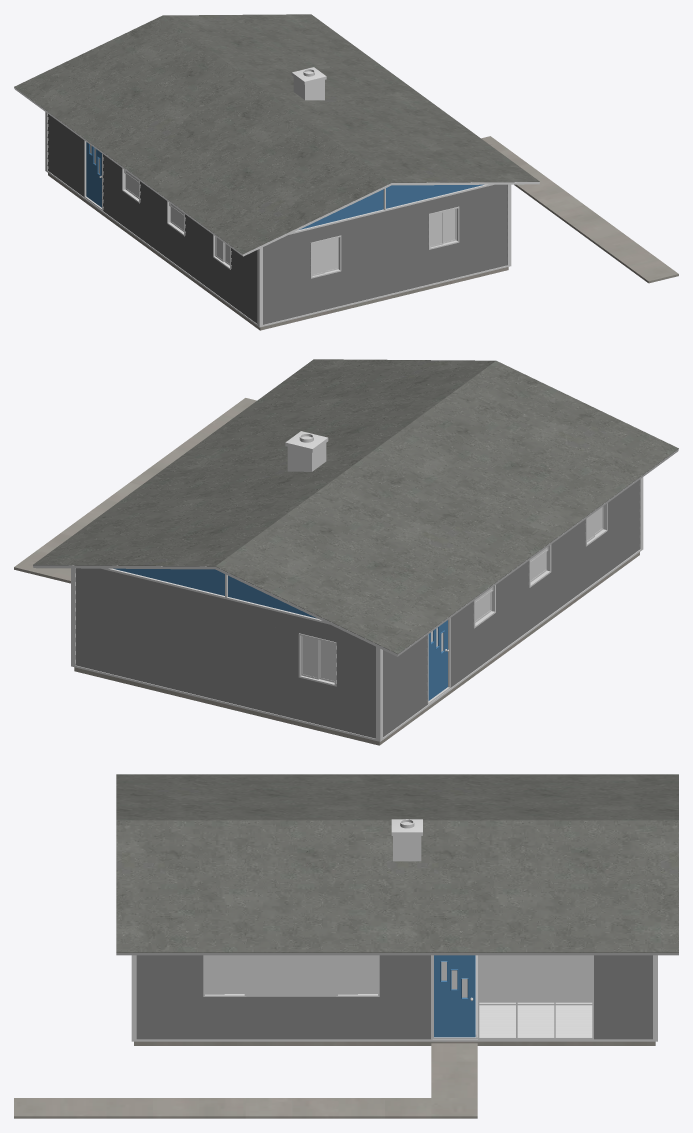
File: casa1c.glb
3 renders of one model, top to bottom at view 1: azimuth 30°, elevation 25°; view 2: azimuth 150°, elevation 25°; view 3: azimuth 270°, elevation 25°, orthographic. The views are drawn at different scales.
Visible parts, largest first — view 1: fw-50-roof_Asphalt020_0, fw-50-siding_C_plywood_grey_0, fw-50-foundation_ConcreteSubstance004_0, fw-50-walls_Wood058_0, fw-50-walls_Accent_Blue_0, fw-50-windowDouble.003_Glass_0, fw-50-door-Interior.001_Metal_Aluminum_0; view 2: fw-50-roof_Asphalt020_0, fw-50-siding_C_plywood_grey_0, fw-50-walls_Wood058_0, fw-50-foundation_ConcreteSubstance004_0, fw-50-walls_Accent_Blue_0, fw-50-windowDouble.003_Glass_0, fw-50-door-Interior.001_Metal_Aluminum_0; view 3: fw-50-roof_Asphalt020_0, fw-50-siding_C_plywood_grey_0, fw-50-foundation_ConcreteSubstance004_0, fw-50-walls_Wood058_0, fw-50-windowDouble.003_Glass_0, fw-50-walls_Accent_Blue_0, fw-50-door-Interior.001_Metal_Aluminum_0.
Boxes of the visible parts, bbox=[...] form: fw-50-roof_Asphalt020_0: bbox=[14, 14, 539, 254]; fw-50-siding_C_plywood_grey_0: bbox=[47, 114, 507, 324]; fw-50-foundation_ConcreteSubstance004_0: bbox=[48, 136, 678, 330]; fw-50-walls_Wood058_0: bbox=[14, 87, 539, 327]; fw-50-walls_Accent_Blue_0: bbox=[86, 142, 483, 229]; fw-50-windowDouble.003_Glass_0: bbox=[90, 145, 455, 274]; fw-50-door-Interior.001_Metal_Aluminum_0: bbox=[99, 67, 326, 177]; fw-50-roof_Asphalt020_0: bbox=[33, 359, 678, 653]; fw-50-siding_C_plywood_grey_0: bbox=[75, 479, 640, 738]; fw-50-walls_Wood058_0: bbox=[33, 449, 678, 741]; fw-50-foundation_ConcreteSubstance004_0: bbox=[14, 398, 639, 745]; fw-50-walls_Accent_Blue_0: bbox=[113, 568, 447, 700]; fw-50-windowDouble.003_Glass_0: bbox=[303, 507, 602, 680]; fw-50-door-Interior.001_Metal_Aluminum_0: bbox=[285, 431, 448, 651]; fw-50-roof_Asphalt020_0: bbox=[116, 774, 678, 952]; fw-50-siding_C_plywood_grey_0: bbox=[136, 955, 652, 1039]; fw-50-foundation_ConcreteSubstance004_0: bbox=[14, 1041, 655, 1118]; fw-50-walls_Wood058_0: bbox=[116, 953, 678, 1041]; fw-50-windowDouble.003_Glass_0: bbox=[206, 955, 592, 1002]; fw-50-walls_Accent_Blue_0: bbox=[434, 955, 475, 1037]; fw-50-door-Interior.001_Metal_Aluminum_0: bbox=[391, 819, 593, 1039].
Bounding box in the file's own units: 12.19 × 4.1 × 14.47.
Materials: 8 (3 with a texture image).
